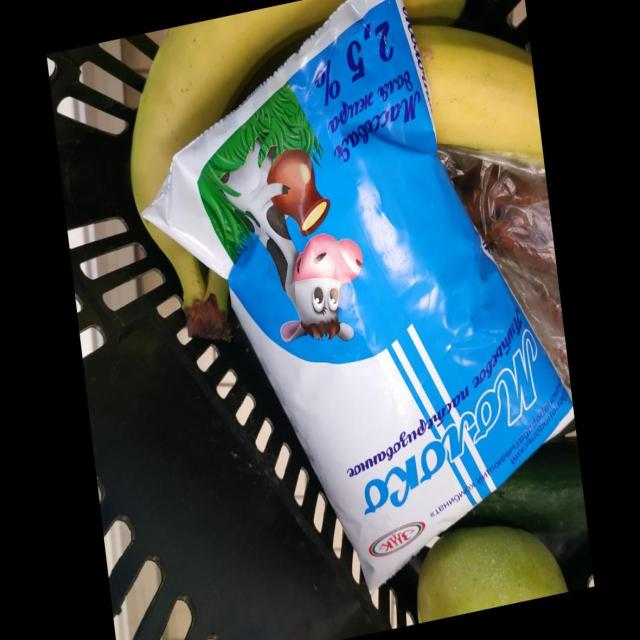Apple: (416, 526, 566, 623)
Banana: (131, 0, 345, 211), (413, 24, 545, 167), (157, 232, 225, 312), (184, 269, 231, 341)
Cucumber: (455, 437, 588, 533)
Milk: (142, 0, 574, 593)
